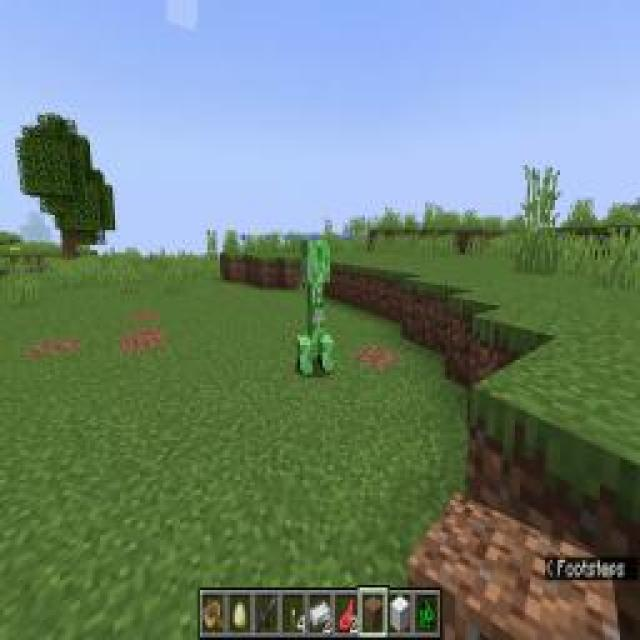Creeper: (294, 235, 336, 380)
